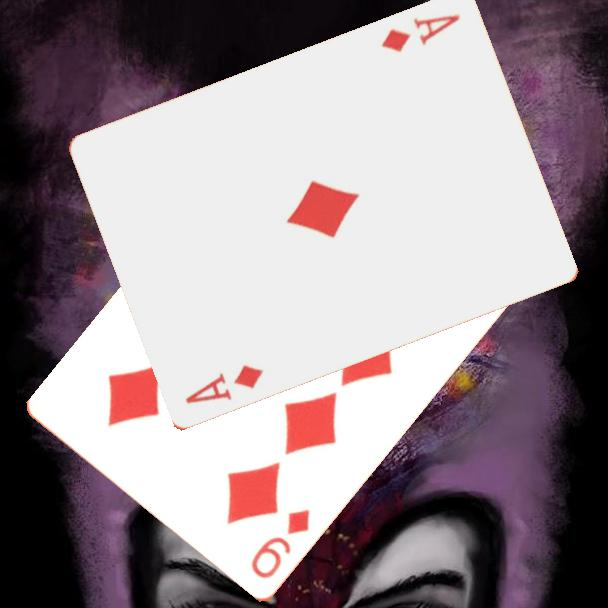d01: (181, 361, 266, 407), (377, 11, 463, 56)
d09: (247, 506, 313, 583)
